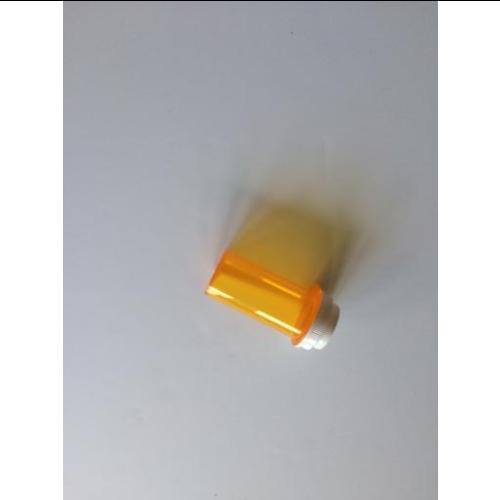plastic: (207, 248, 343, 353)
